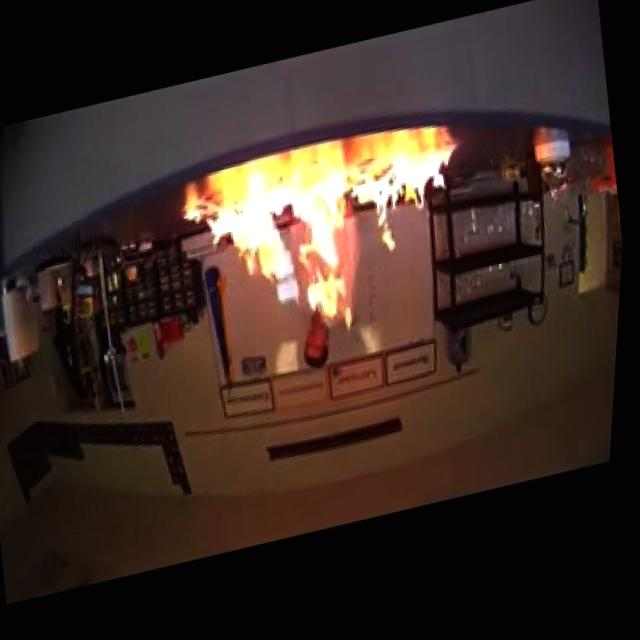helmet: (173, 144, 483, 356)
